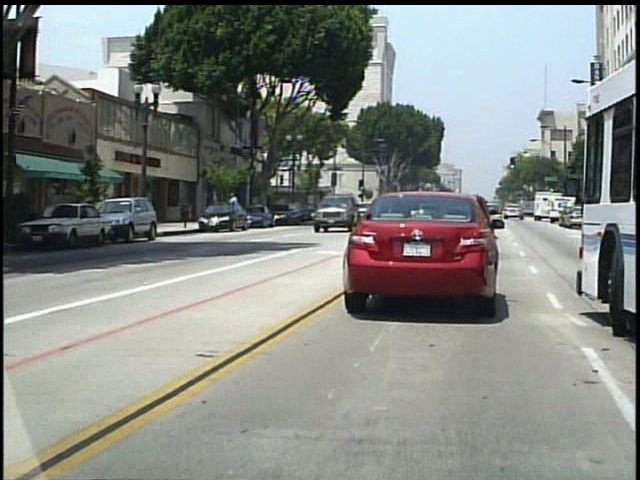person: (231, 190, 244, 224)
